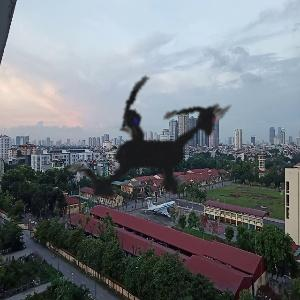drone: (4, 5, 298, 299)
